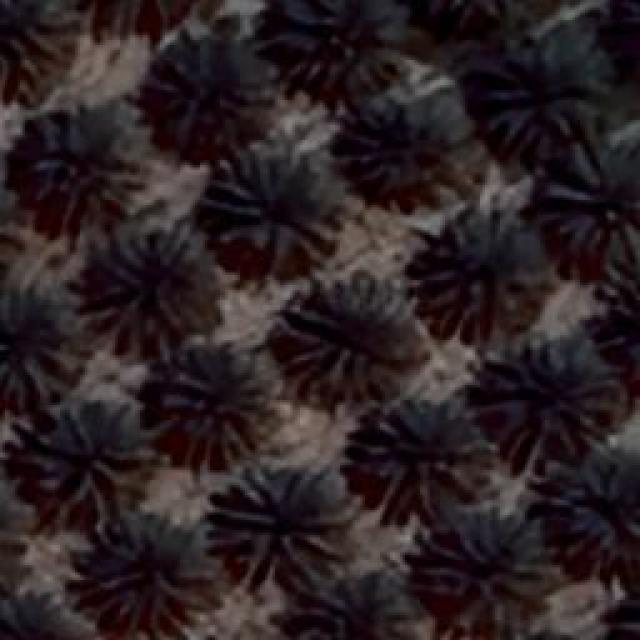PalmTree: (125, 98, 486, 576), (118, 11, 467, 98), (88, 210, 220, 352), (342, 400, 488, 528), (478, 330, 622, 452), (95, 507, 223, 635), (2, 106, 150, 216), (208, 155, 340, 275), (471, 34, 609, 148), (210, 462, 340, 582), (146, 38, 279, 152), (155, 350, 283, 465), (265, 0, 410, 100), (412, 216, 540, 329), (350, 91, 475, 201), (274, 282, 388, 396), (28, 410, 148, 508), (0, 287, 95, 405), (296, 560, 432, 640), (544, 138, 638, 252), (564, 448, 638, 550), (0, 0, 80, 92), (1, 567, 96, 640), (607, 248, 640, 394), (71, 0, 205, 28), (0, 472, 25, 596), (621, 256, 640, 392), (0, 165, 20, 291), (614, 0, 640, 83), (468, 625, 605, 640), (0, 161, 15, 291), (613, 575, 640, 640), (621, 0, 640, 86), (0, 474, 12, 592), (619, 575, 640, 640)
